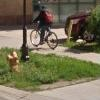Bicycle: (28, 18, 61, 53)
